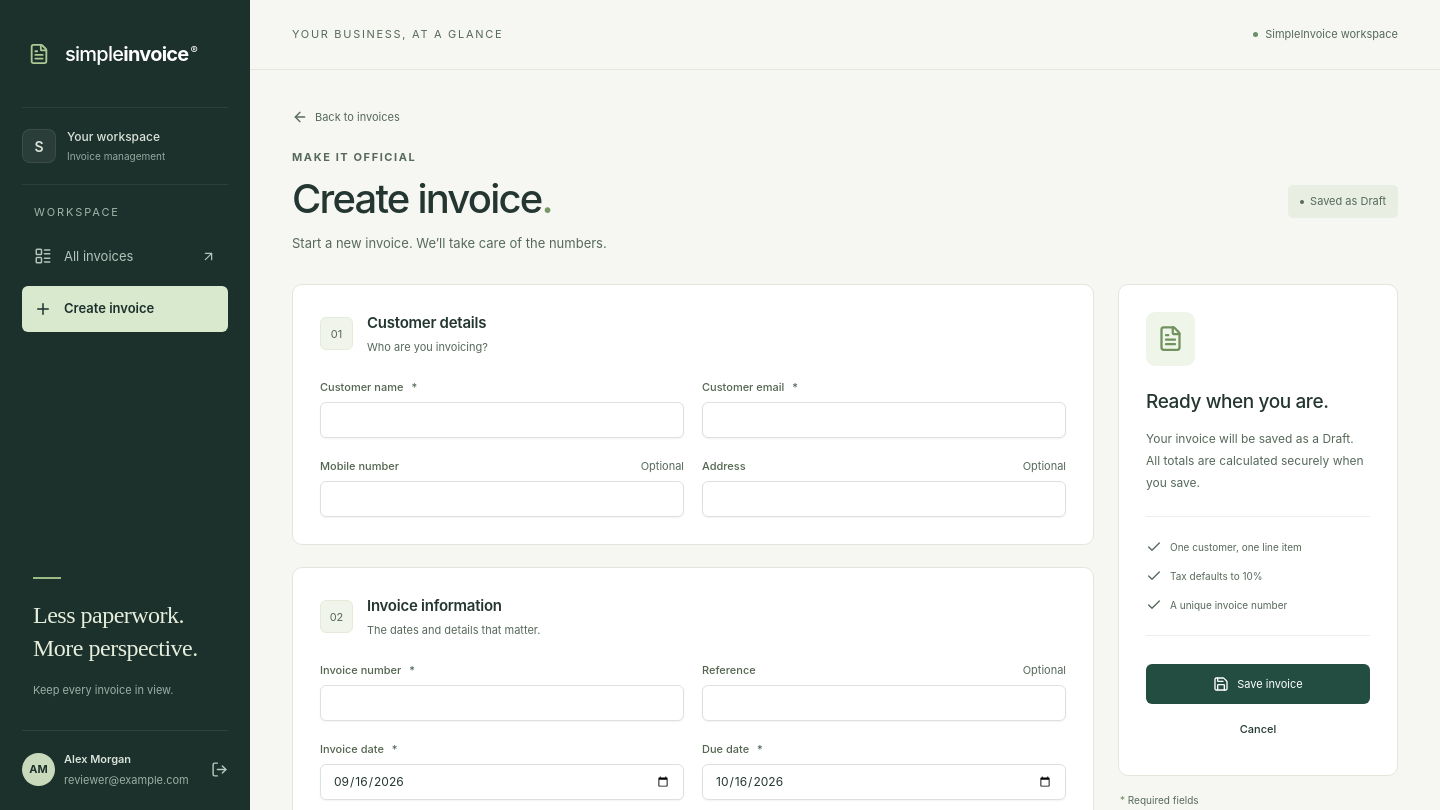
Test: Invoice creation and details › validates critical creation fields before contacting the API
Expected: the heading "Create invoice." is shown, top-left (292, 174), bottom-right (552, 223)
Click the button "Save invoice" at [1258, 684], box top-left (1146, 664), bottom-right (1370, 704)
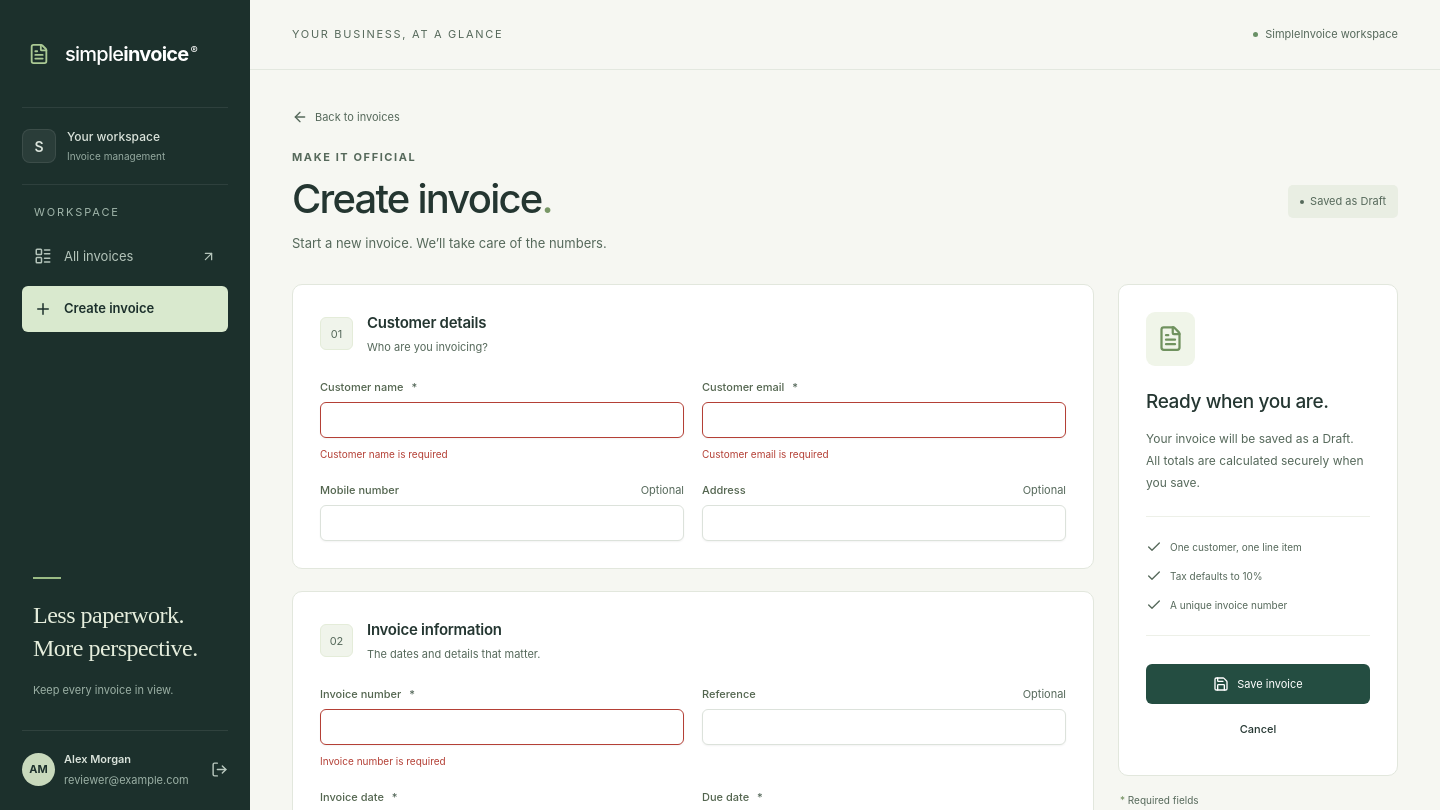
Expected: the text "Customer name is required" is shown, top-left (320, 448), bottom-right (448, 460)
Expected: the text "Customer email is required" is shown, top-left (702, 448), bottom-right (829, 460)
Expected: the text "Invoice number is required" is shown, top-left (320, 755), bottom-right (446, 767)
